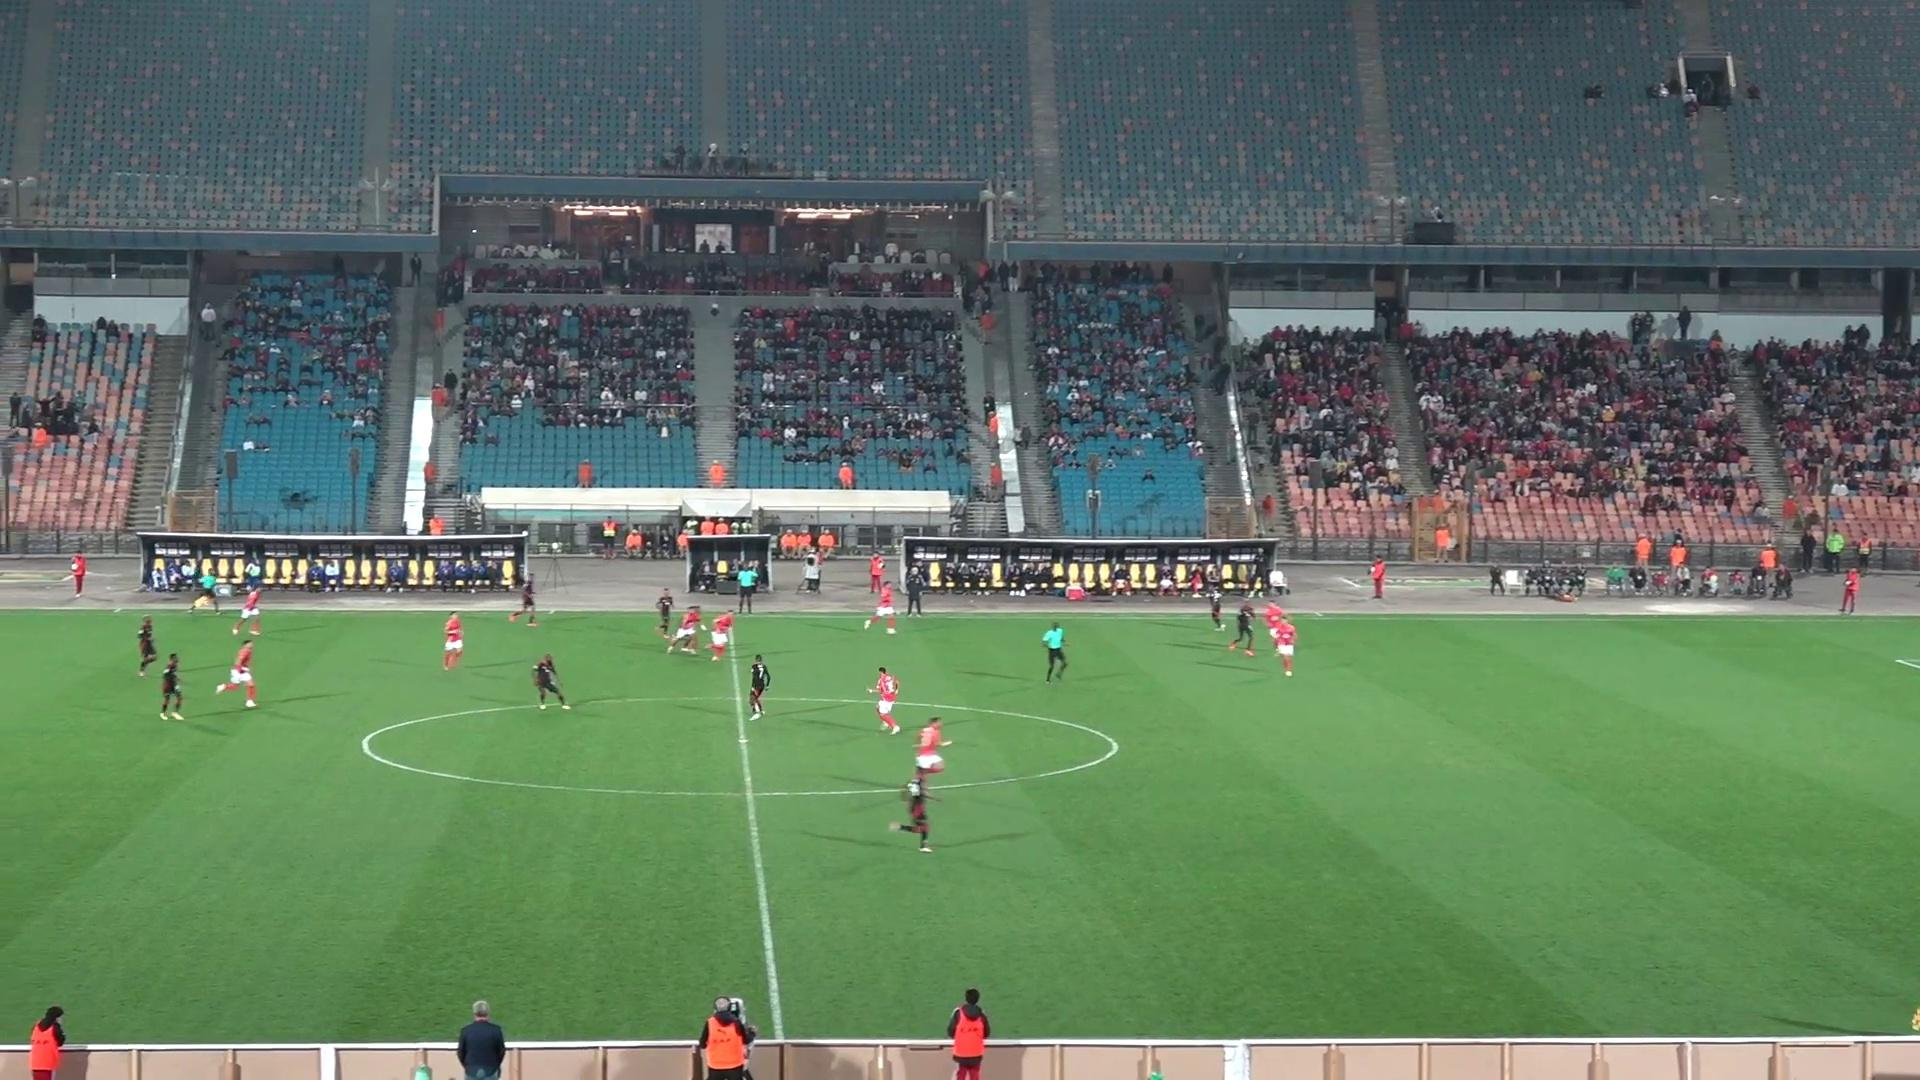Refree: (1042, 622, 1068, 680), (735, 556, 760, 613), (190, 563, 219, 611)
Team1: (218, 640, 255, 705), (1263, 605, 1296, 675), (914, 717, 949, 778), (868, 669, 899, 733), (864, 580, 898, 633), (669, 605, 702, 654), (707, 611, 735, 661), (233, 588, 261, 636), (443, 613, 463, 670), (1265, 601, 1284, 654)
Team2: (891, 774, 936, 851), (531, 655, 568, 707), (158, 653, 185, 719), (746, 654, 771, 719), (1229, 597, 1255, 655), (136, 616, 160, 676), (509, 574, 535, 626), (655, 588, 675, 640), (1205, 585, 1224, 632)
